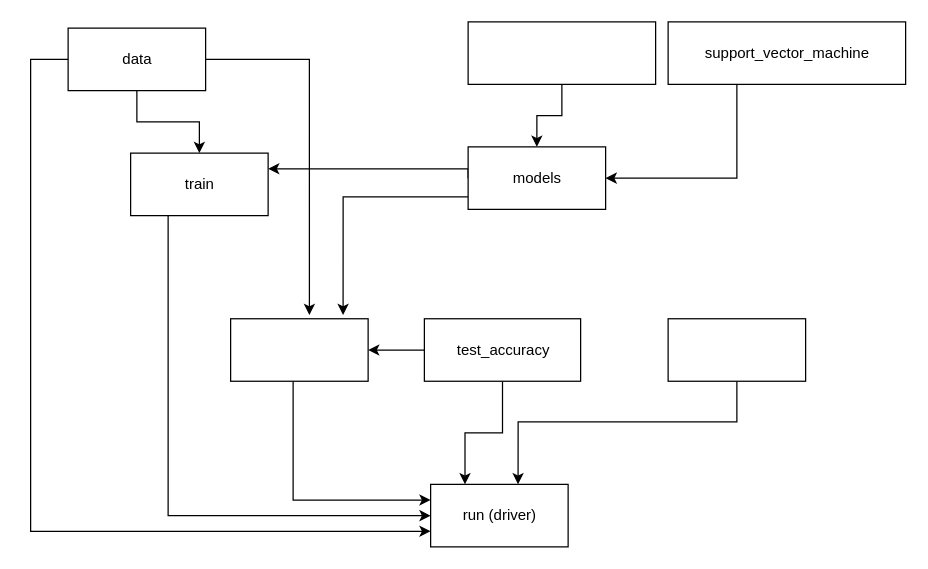
Image size: 928x569. Some labels were removed from this diagram. Here are the shapes that lost their labels. From the top down, the centre of each, then its label:
At point 561,52: "neural_network".
At point 298,349: "predict".
At point 736,349: "write".
